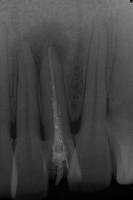Furcation Involvement: (22, 18, 72, 75)
